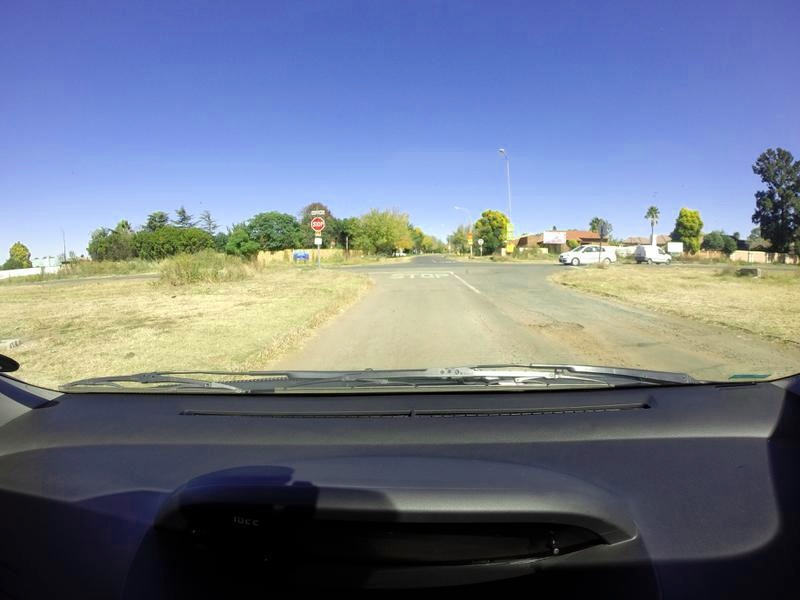pothole: (641, 326, 717, 348), (523, 317, 590, 333), (573, 346, 630, 359)
